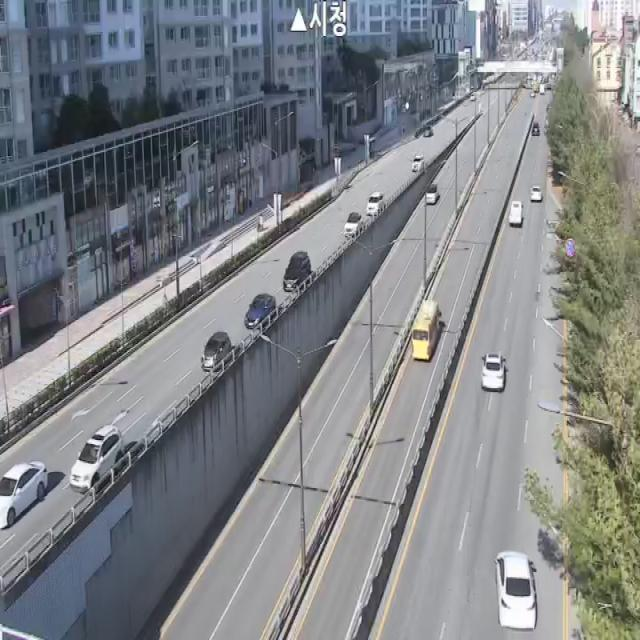Bus: (412, 301, 438, 360)
Car: (70, 424, 122, 492), (494, 551, 537, 630), (0, 461, 48, 529), (200, 331, 232, 372), (282, 250, 312, 292), (244, 292, 276, 330), (481, 353, 506, 391), (344, 212, 363, 236), (366, 191, 384, 216), (509, 201, 523, 227), (426, 183, 438, 204), (411, 153, 424, 172), (530, 186, 542, 201), (422, 125, 433, 137), (531, 122, 540, 136)
